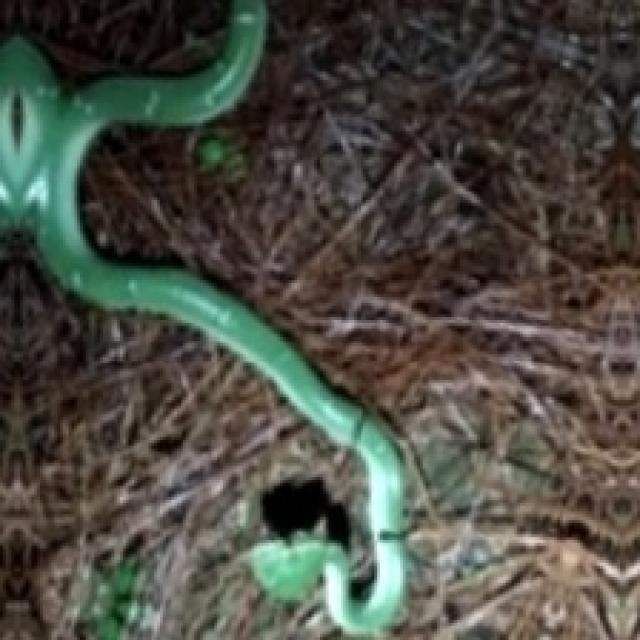north ph temple pitviper: (0, 0, 406, 631)
